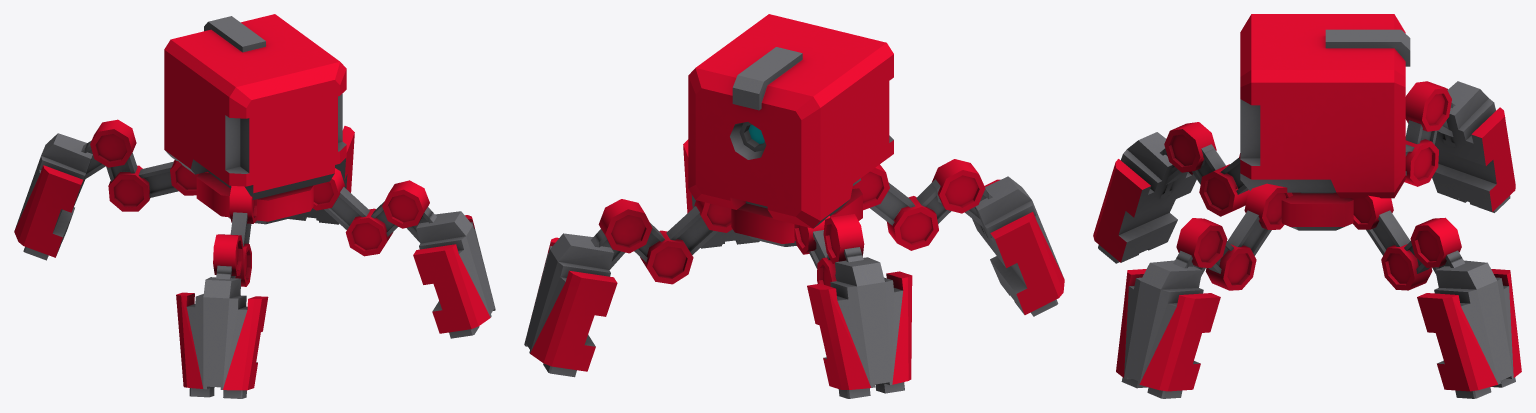
Rendered from Monster1_Move3.obj.
The picture shows the model from 3 angles, left to right: view 1: azimuth 30°, elevation 25°; view 2: azimuth 150°, elevation 25°; view 3: azimuth 270°, elevation 25°; orthographic projection. The views are drawn at different scales.
Parts seen in each view (by area): view 1: Box006, Object021, Object017, Object025, Object028, Object020, Object027, Object018, Object019, Object026, Object024, Object022 (+2 smaller); view 2: Box006, Object025, Object013, Object021, Object016, Object023, Object024, Object015, Object014, Object022, Object028, Object026 (+2 smaller); view 3: Box006, Object013, Object017, Object021, Object025, Object018, Object016, Object023, Object020, Object014, Object028, Object024 (+4 smaller).
Boxes of the visible parts, x1,y1,x2,y2 form: Box006: (164,14,346,224); Object021: (176,277,268,398); Object017: (413,211,495,338); Object025: (14,133,92,260); Object028: (81,119,136,179); Object020: (382,180,436,242); Object027: (106,153,150,211); Object018: (312,168,369,229); Object019: (345,201,398,256); Object026: (138,160,208,197); Object024: (213,234,243,279); Object022: (229,186,257,246); Box006: (688,14,893,246); Object025: (807,257,912,398); Object013: (524,233,617,377); Object021: (972,176,1064,316); Object016: (591,199,652,269); Object023: (886,179,951,250); Object024: (932,159,992,227); Object015: (634,223,693,284); Object014: (666,200,732,254); Object022: (852,164,915,225); Object028: (823,214,864,263); Object026: (794,216,829,268); Box006: (1240,14,1410,230); Object013: (1417,260,1521,398); Object017: (1116,260,1220,398); Object021: (1093,132,1196,263); Object025: (1432,81,1515,212); Object018: (1227,183,1292,255); Object016: (1410,217,1464,273); Object023: (1192,144,1249,216); Object020: (1173,218,1227,276); Object014: (1350,195,1410,255); Object028: (1405,81,1455,136); Object024: (1160,122,1216,184).
Size of the model in its own units: 151 by 112 by 153.
